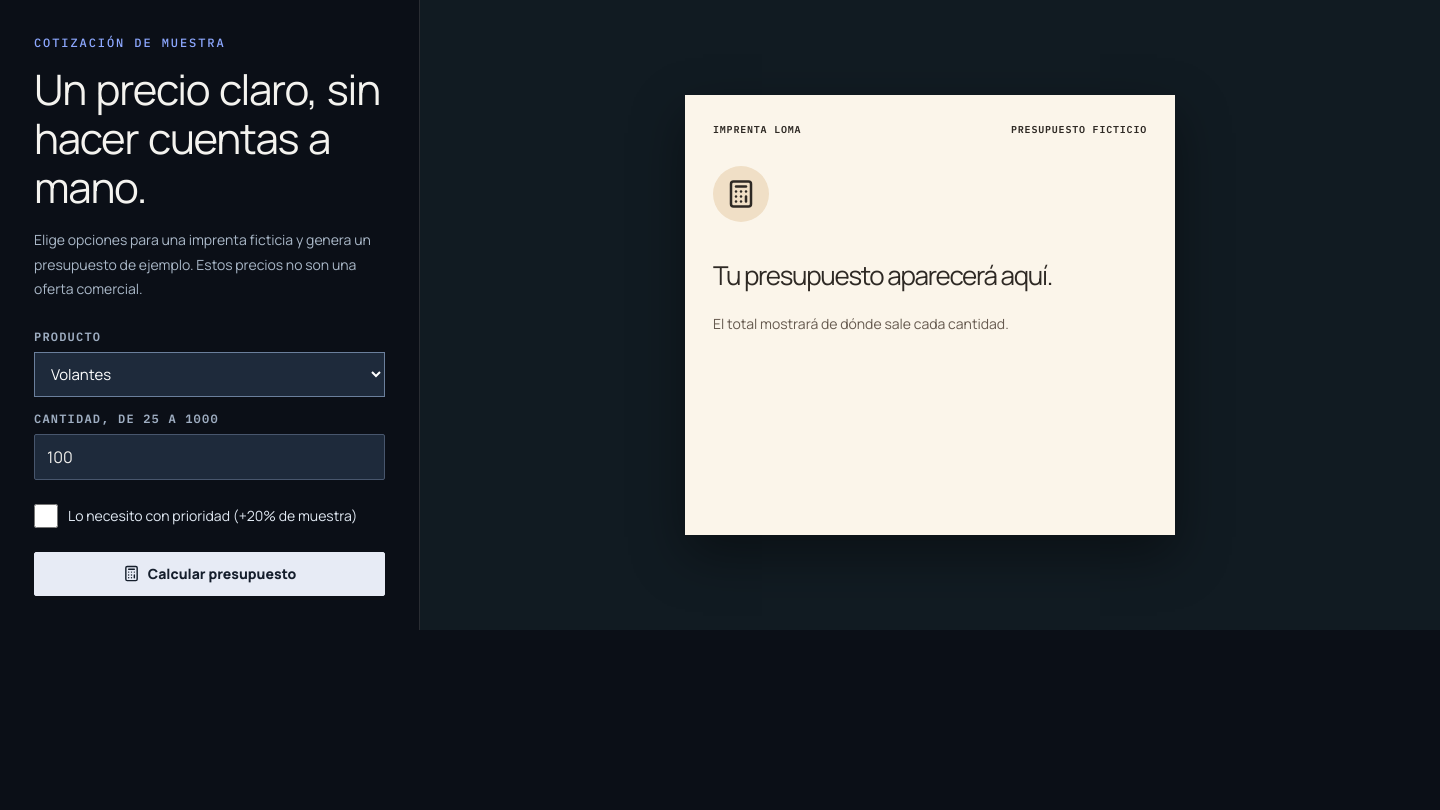
demos para negocios locales › explica cuando la cantidad no es válida
The width and height of the screenshot is (1440, 810).
Replace the text in the number field with "0" at (210, 457), box [34,434,385,480]
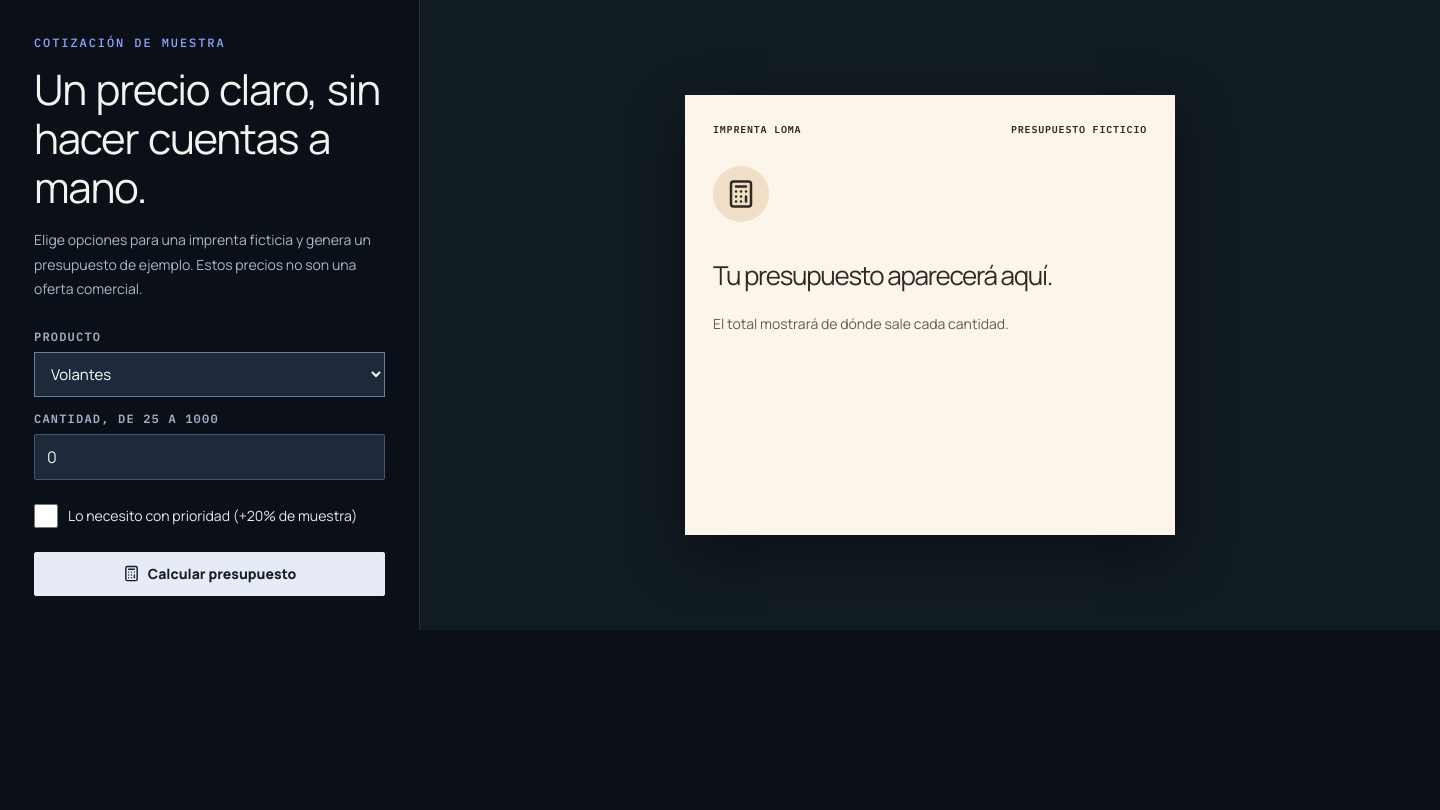
Click the button "Calcular presupuesto" at (210, 574), box [34,552,385,596]
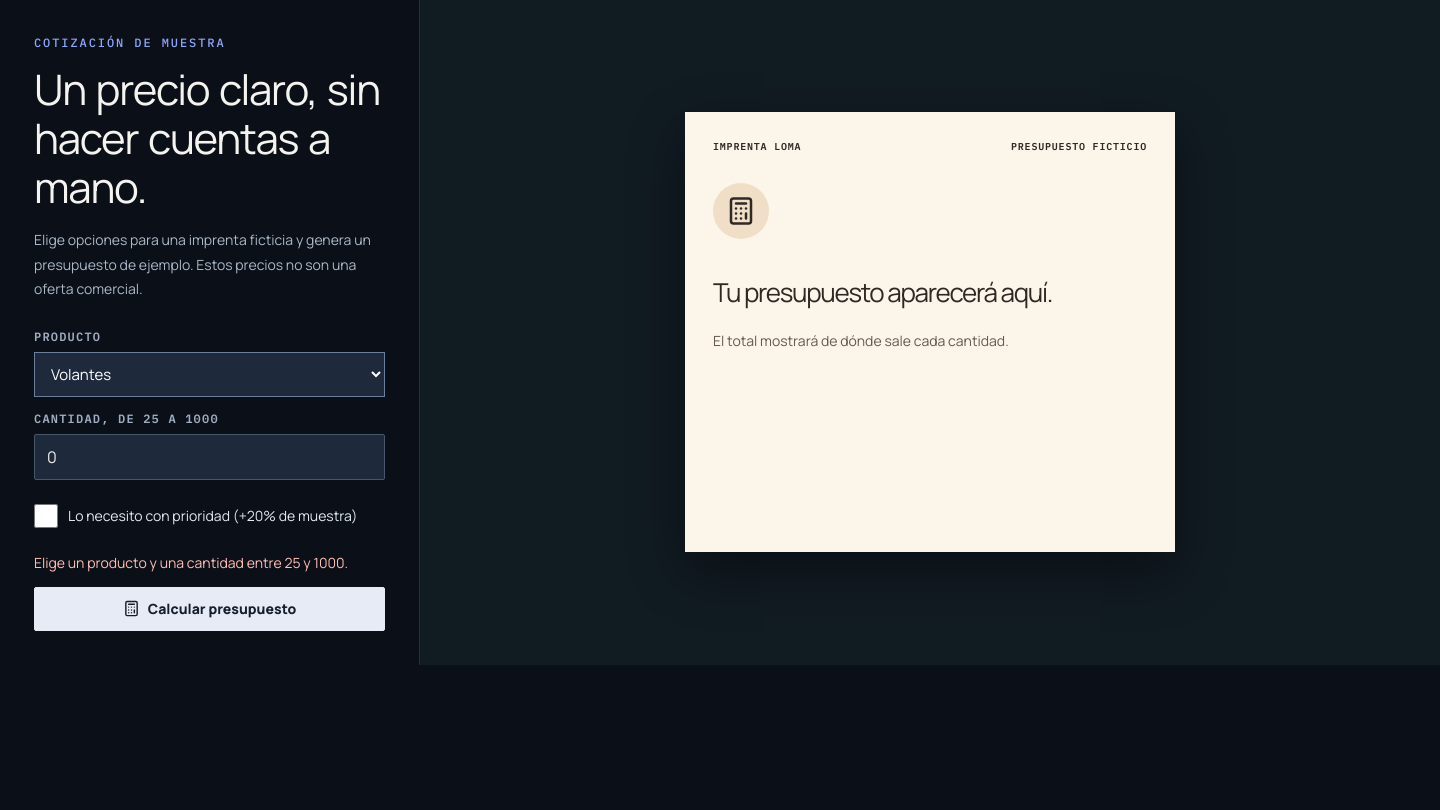
expect the message shows "entre 25 y 1000": met, box [34,553,348,572]
